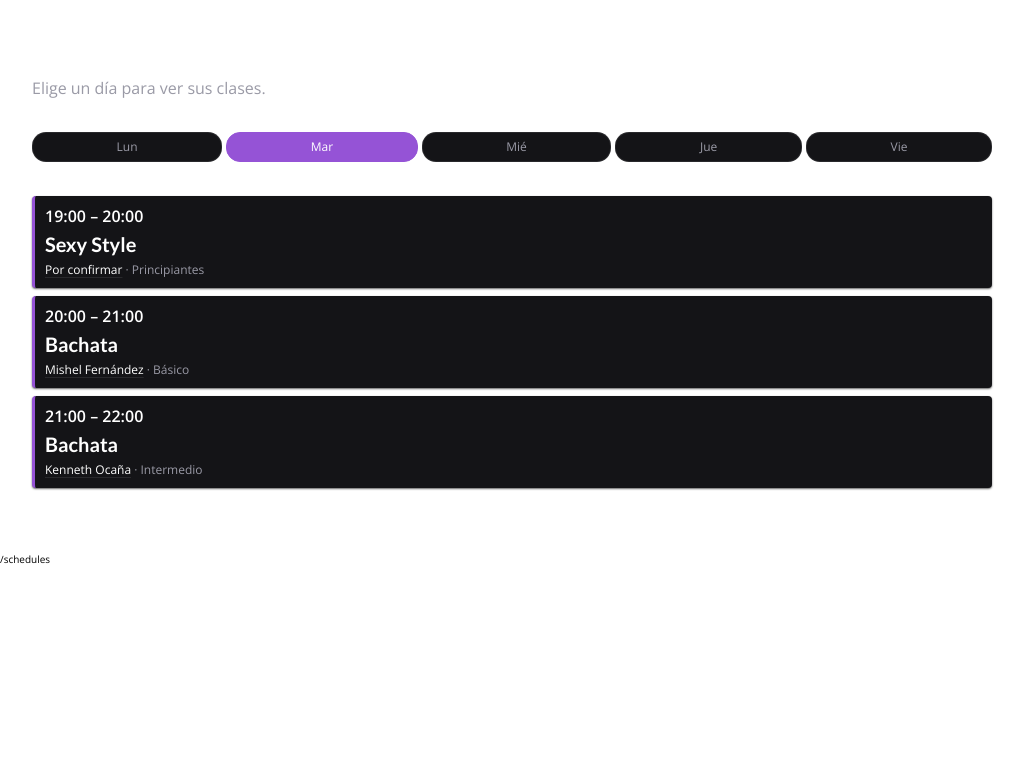
Test: Schedules opening a teacher over the schedule › opens that teacher in a dialog and keeps the schedule on screen
The image size is (1024, 768).
Click the link "Por confirmar" at (84, 270), box x1=45 y1=261 x2=122 y2=278
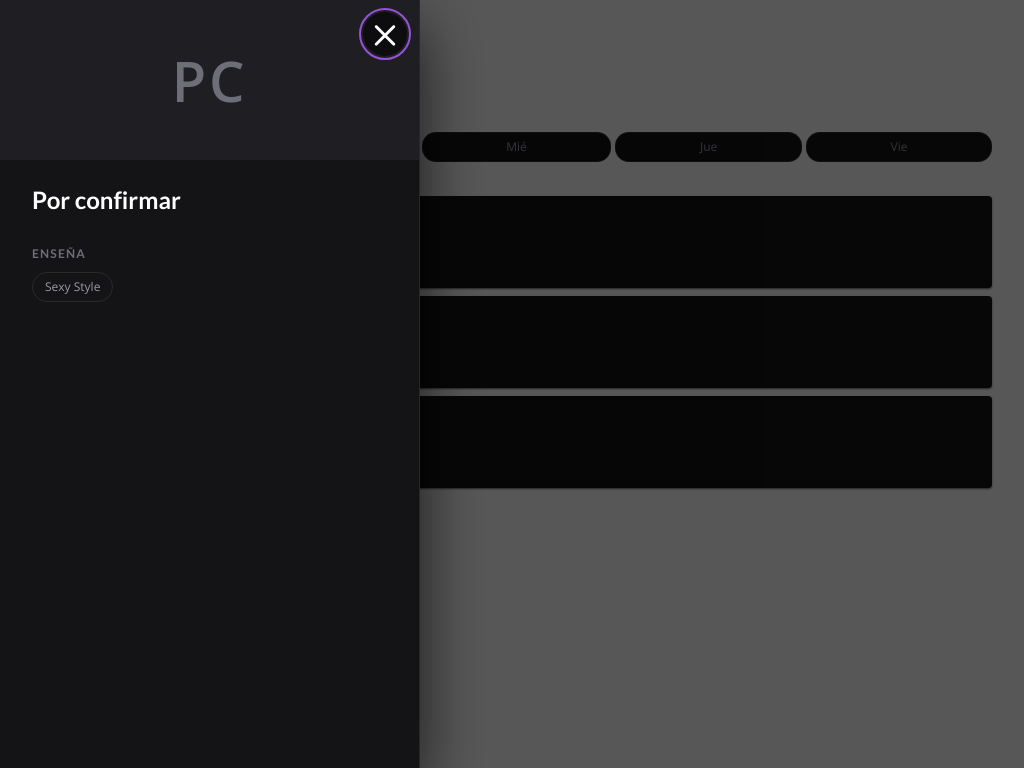
Check: the dialog "Por confirmar" is shown, box x1=0 y1=0 x2=420 y2=767
